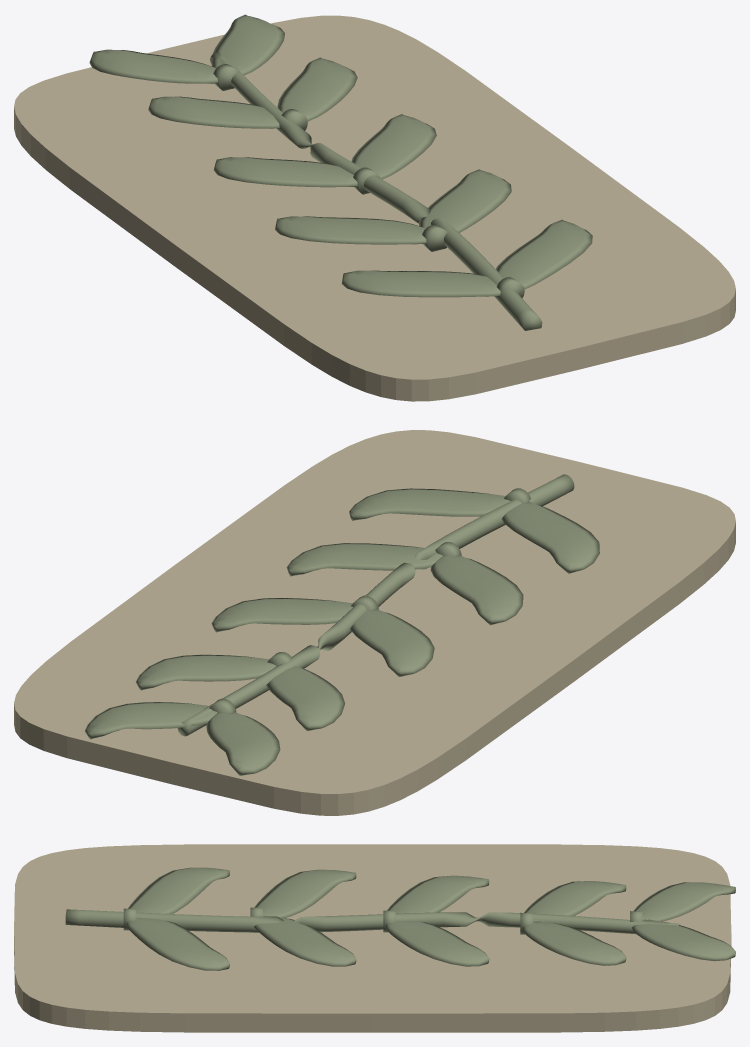
The model's file is schizoneura.glb.
The picture shows the model from 3 angles, top to bottom: view 1: azimuth 30°, elevation 25°; view 2: azimuth 150°, elevation 25°; view 3: azimuth 270°, elevation 25°; orthographic projection. The views are drawn at different scales.
Parts seen in each view (by area): view 1: original-preserved-shoot-teaching-host-not-whole-plant, detached-jointed-axis-with-wide-paired-split-node-sheaths; view 2: original-preserved-shoot-teaching-host-not-whole-plant, detached-jointed-axis-with-wide-paired-split-node-sheaths; view 3: original-preserved-shoot-teaching-host-not-whole-plant, detached-jointed-axis-with-wide-paired-split-node-sheaths.
Part boxes in pixels (left/top/right/bottom): original-preserved-shoot-teaching-host-not-whole-plant: left=14, top=15, right=735, bottom=401; detached-jointed-axis-with-wide-paired-split-node-sheaths: left=89, top=14, right=592, bottom=330; original-preserved-shoot-teaching-host-not-whole-plant: left=14, top=430, right=735, bottom=815; detached-jointed-axis-with-wide-paired-split-node-sheaths: left=84, top=474, right=599, bottom=775; original-preserved-shoot-teaching-host-not-whole-plant: left=14, top=844, right=731, bottom=1032; detached-jointed-axis-with-wide-paired-split-node-sheaths: left=65, top=867, right=735, bottom=970.
Bounding box in the file's own units: 0.1665 × 0.0169 × 0.3.
